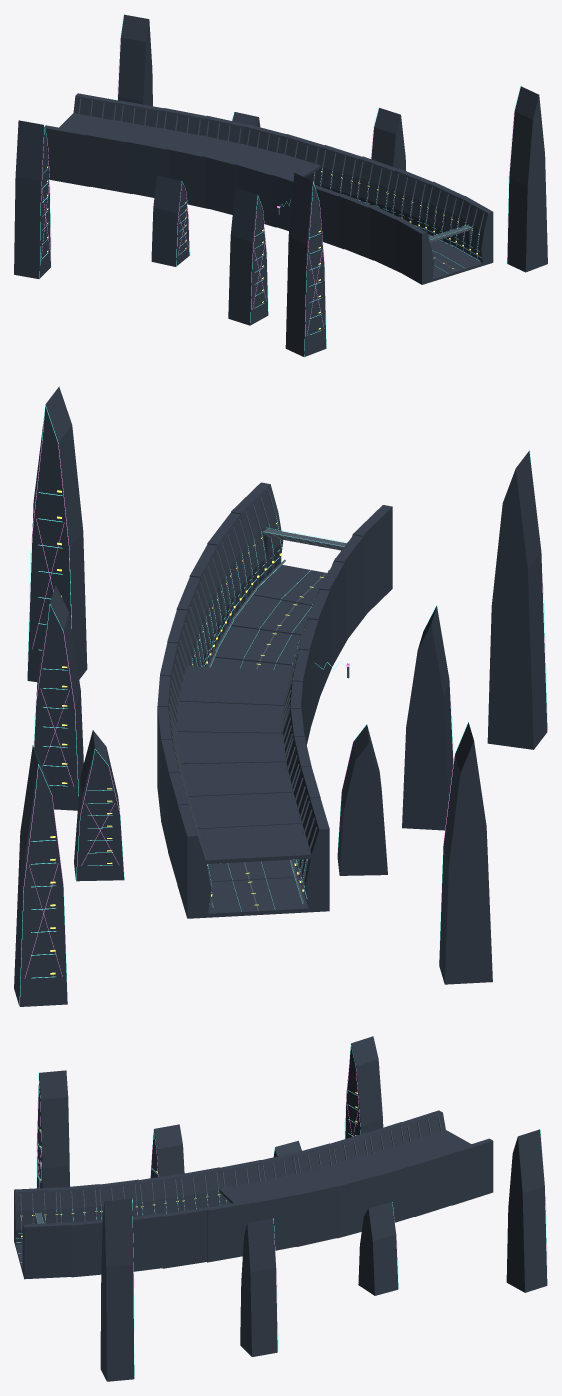
The model's file is route_batch_2.glb.
The picture shows the model from 3 angles, top to bottom: view 1: azimuth 30°, elevation 25°; view 2: azimuth 150°, elevation 25°; view 3: azimuth 270°, elevation 25°; orthographic projection. The views are drawn at different scales.
Parts seen in each view (by area): view 1: route_batch_2; view 2: route_batch_2; view 3: route_batch_2.
Part boxes in pixels (x1,y1,x2,y2): route_batch_2: (14,14,547,357); route_batch_2: (14,386,547,1007); route_batch_2: (14,1036,547,1381).
Bounding box in the file's own units: 720 × 308 × 804.
